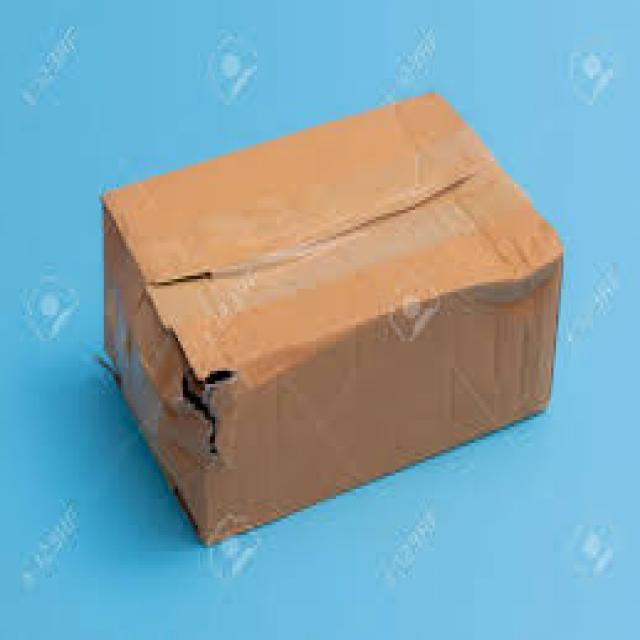hole: (177, 351, 239, 448)
